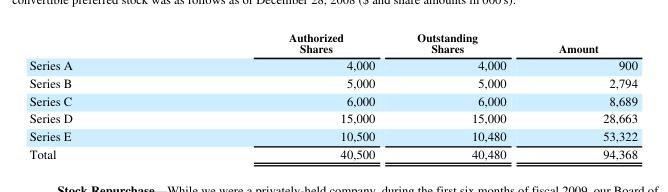table: (28, 28, 636, 161)
table column: (179, 28, 395, 161), (28, 28, 179, 161), (395, 28, 531, 161), (531, 28, 636, 161)
table column header: (28, 28, 636, 55)
table row: (28, 28, 636, 55), (28, 55, 636, 73), (28, 73, 636, 91), (28, 108, 636, 126), (28, 126, 636, 144), (28, 91, 636, 108), (28, 144, 636, 161)
